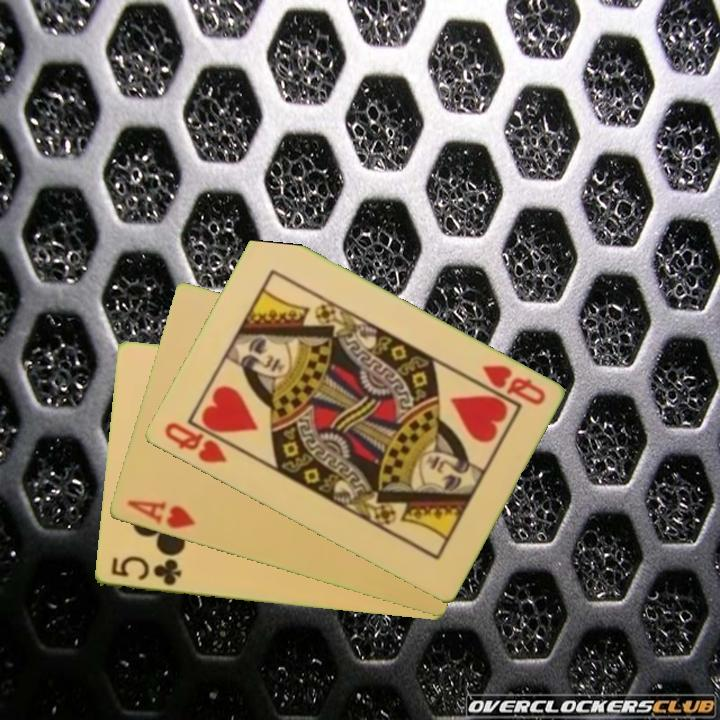5c: (107, 552, 184, 589)
Ah: (123, 497, 198, 532)
Qh: (160, 418, 230, 467), (477, 361, 548, 409)
